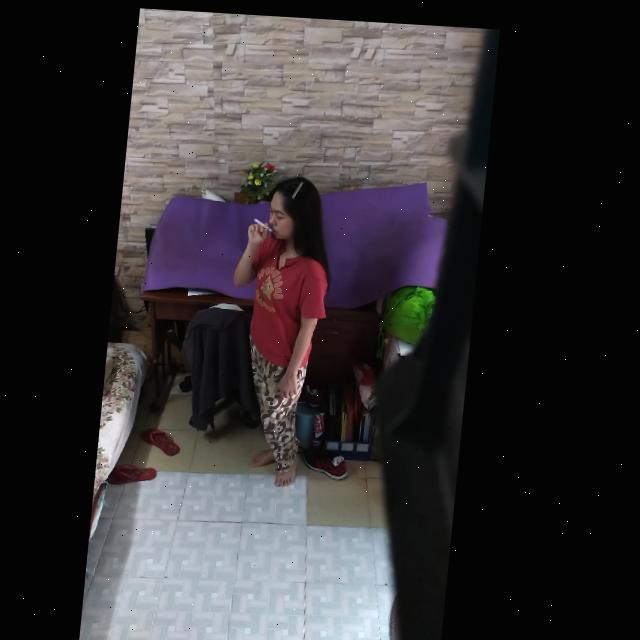cigarette: (257, 215, 278, 229)
